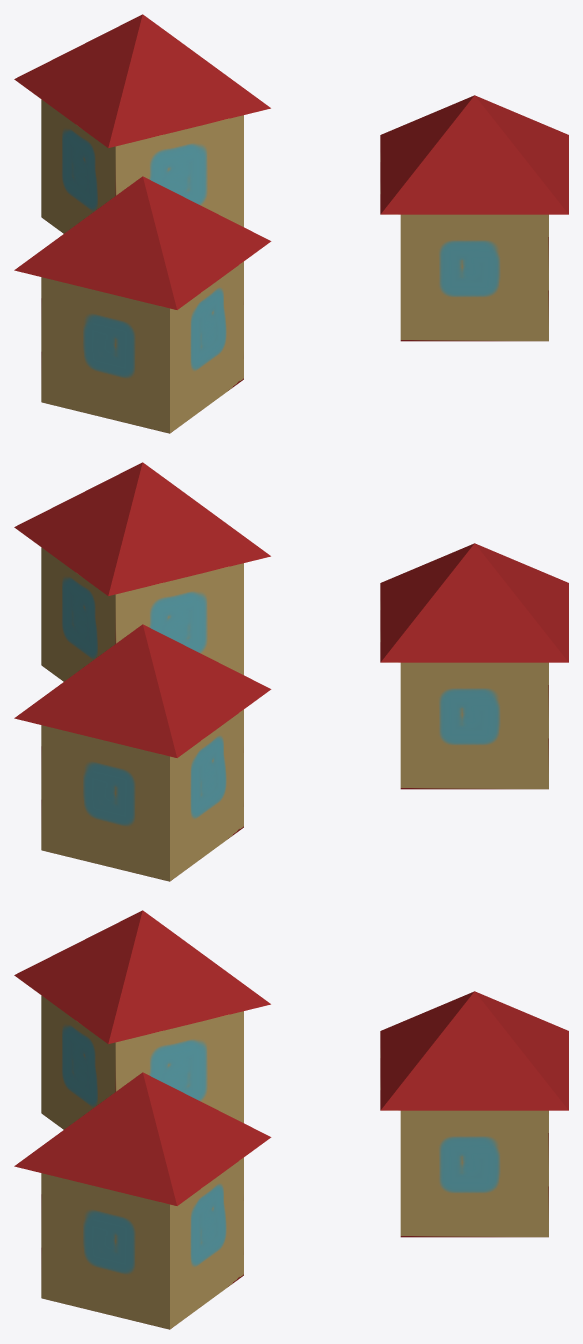
Rendered from village.obj.
3 renders of one model, top to bottom at view 1: azimuth 30°, elevation 25°; view 2: azimuth 150°, elevation 25°; view 3: azimuth 270°, elevation 25°, orthographic.
Parts seen in each view (by area): view 1: pCube2, pCube4, pCube3; view 2: pCube3, pCube2, pCube4; view 3: pCube4, pCube3, pCube2.
Boxes of the visible parts, x1,y1,x2,y2 form: pCube2: (14,176,271,433); pCube4: (380,95,568,341); pCube3: (14,14,270,233); pCube3: (14,624,271,881); pCube2: (380,543,568,789); pCube4: (14,462,270,681); pCube4: (14,1072,271,1329); pCube3: (380,991,568,1237); pCube2: (14,910,270,1129).
Bounding box in the file's own units: 5.43 × 2.01 × 4.71.
